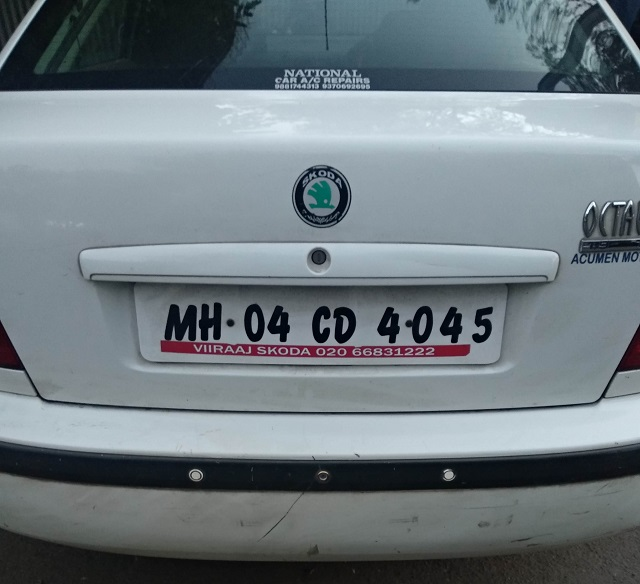licenseplate: (130, 279, 508, 368)
